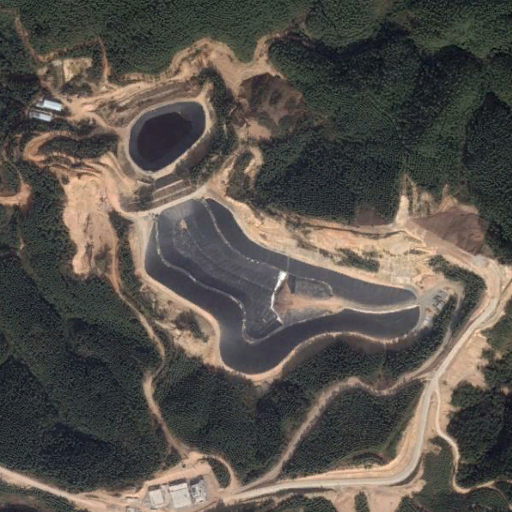lf: (144, 197, 424, 373)
